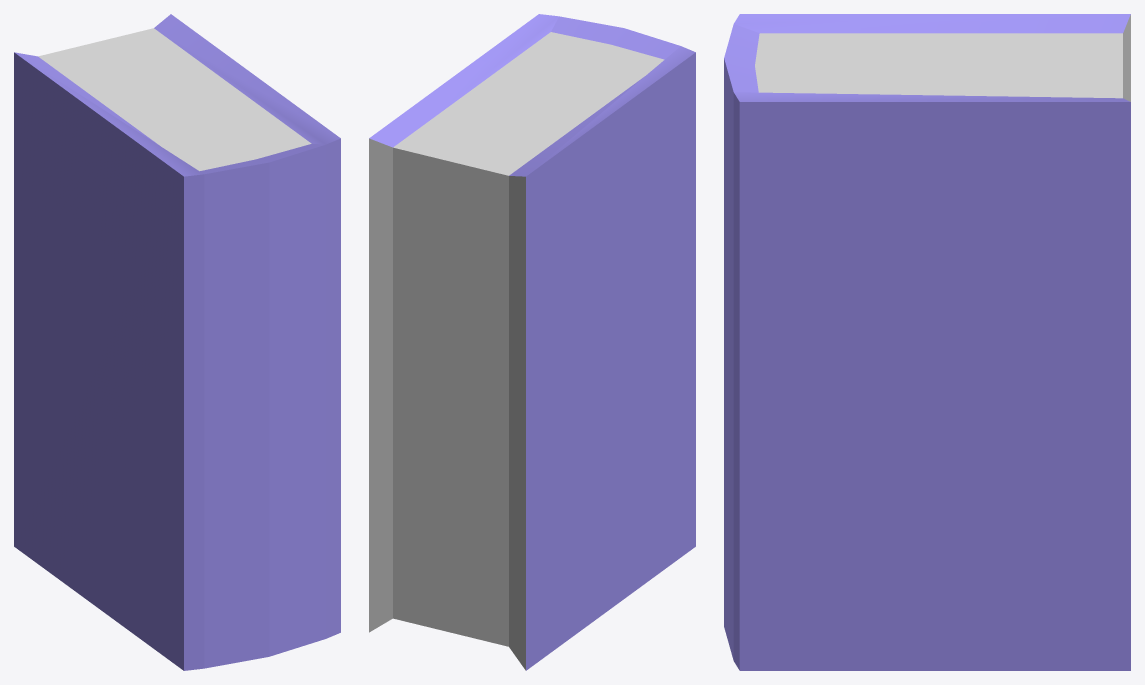
Rendered from Book.5.fbx.
3 renders of one model, left to right at view 1: azimuth 30°, elevation 25°; view 2: azimuth 150°, elevation 25°; view 3: azimuth 270°, elevation 25°, orthographic. The views are drawn at different scales.
Visible parts, largest first — view 1: Book_5; view 2: Book_5; view 3: Book_5.
Part boxes in pixels (x1,y1,x2,y2): Book_5: (14,14,340,670); Book_5: (369,14,695,670); Book_5: (724,14,1130,670).
Size of the model in its own units: 17.63 by 53.07 by 34.4.
